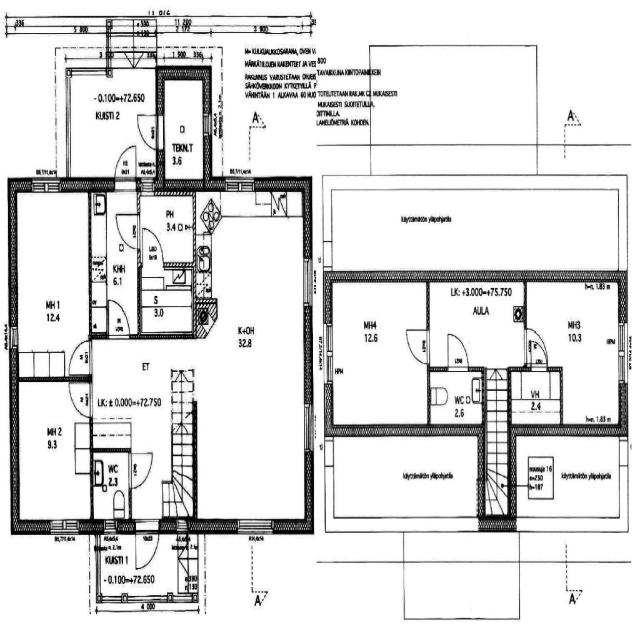door: (134, 522, 161, 572), (523, 326, 550, 370), (444, 330, 472, 372), (404, 324, 432, 366), (128, 448, 154, 491), (68, 379, 93, 421), (113, 143, 138, 184), (67, 338, 93, 377), (135, 110, 159, 152), (106, 297, 130, 338), (115, 212, 140, 251), (140, 226, 164, 266)
window: (615, 316, 630, 388), (235, 515, 276, 540), (301, 398, 316, 459), (224, 172, 258, 198), (300, 252, 315, 310), (46, 516, 82, 540), (323, 320, 336, 383), (30, 175, 60, 196), (9, 319, 20, 355), (203, 110, 213, 140), (102, 518, 117, 536)
zone: (195, 182, 308, 528), (326, 280, 428, 432), (13, 190, 91, 378), (529, 276, 621, 427), (89, 336, 191, 448), (15, 380, 92, 526), (68, 66, 160, 183), (427, 273, 527, 367), (92, 186, 140, 333), (161, 77, 208, 184), (139, 190, 195, 266), (139, 265, 194, 338), (427, 368, 486, 431), (509, 368, 563, 429), (91, 448, 130, 522), (485, 418, 508, 505), (170, 435, 194, 515), (90, 304, 108, 336)
